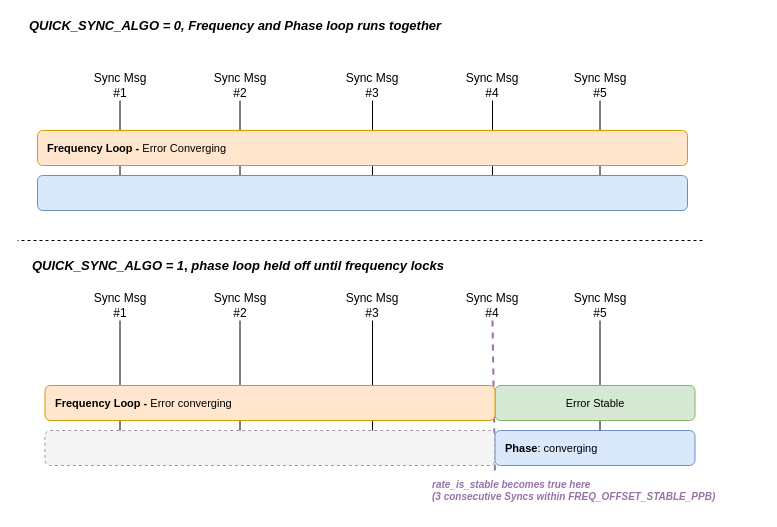
The diagram is 777 pixels wide and 527 high, and some of its shapes have lost their labels. Here are the shapes that lost their labels. From the top down, the centre of each, then its label:
(x=362, y=192): Phase Loop : Error converging (can be perturbed by freq. steps)
(x=269, y=448): Phase loop: skipped
